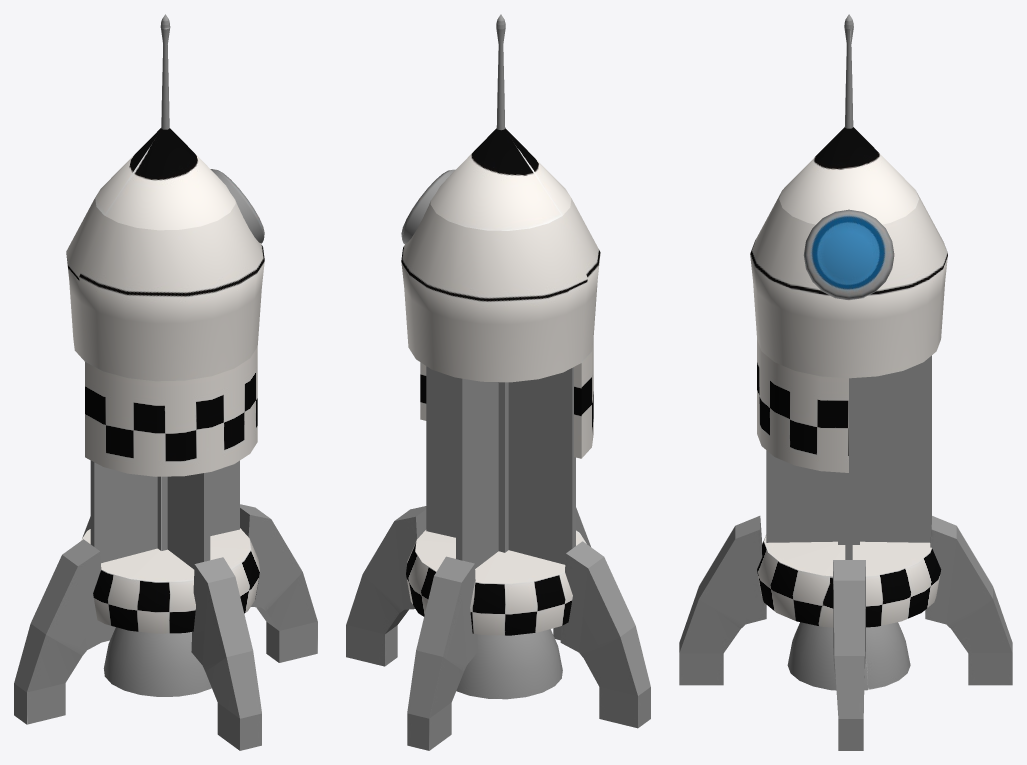
File: rocket.obj
3 renders of one model, left to right at view 1: azimuth 30°, elevation 25°; view 2: azimuth 150°, elevation 25°; view 3: azimuth 270°, elevation 25°, orthographic.
Parts seen in each view (by area): view 1: spaceship:pCube6; view 2: spaceship:pCube6; view 3: spaceship:pCube6.
Part boxes in pixels (x1=…): spaceship:pCube6: x1=14, y1=14, x2=317, y2=750; spaceship:pCube6: x1=346, y1=14, x2=650, y2=750; spaceship:pCube6: x1=679, y1=14, x2=1012, y2=750.
Size of the model in its own units: 3.27 by 7.21 by 3.27.
